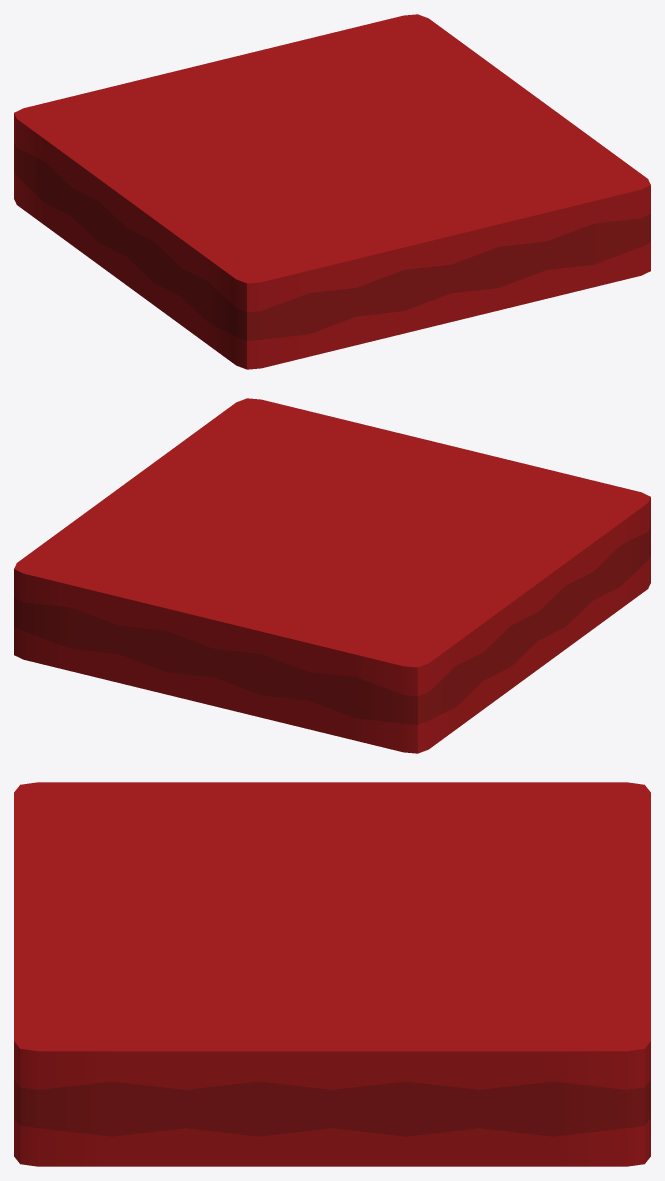
The model's file is sm_terrain_groundlava.fbx.
The picture shows the model from 3 angles, top to bottom: view 1: azimuth 30°, elevation 25°; view 2: azimuth 150°, elevation 25°; view 3: azimuth 270°, elevation 25°; orthographic projection. The views are drawn at different scales.
Visible parts, largest first — view 1: sm_terrain_ground_01; view 2: sm_terrain_ground_01; view 3: sm_terrain_ground_01.
Boxes of the visible parts, x1,y1,x2,y2 form: sm_terrain_ground_01: (14,14,650,369); sm_terrain_ground_01: (14,398,650,753); sm_terrain_ground_01: (14,782,650,1166).
Bounding box in the file's own units: 112 × 22.31 × 112.
1 material, 1 textured.
